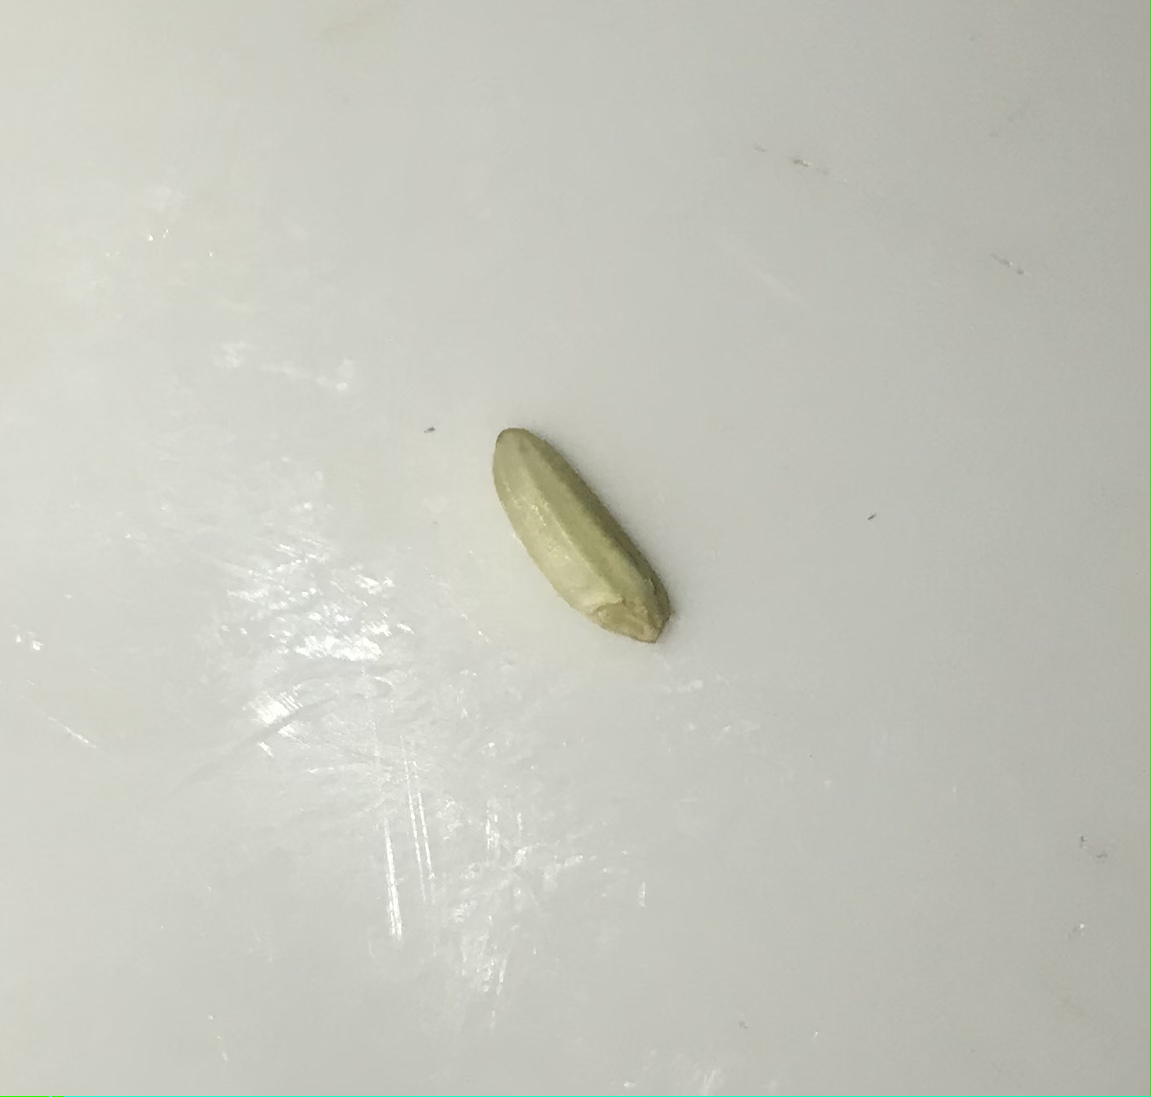Gao Lut Trang: (482, 420, 690, 649)
